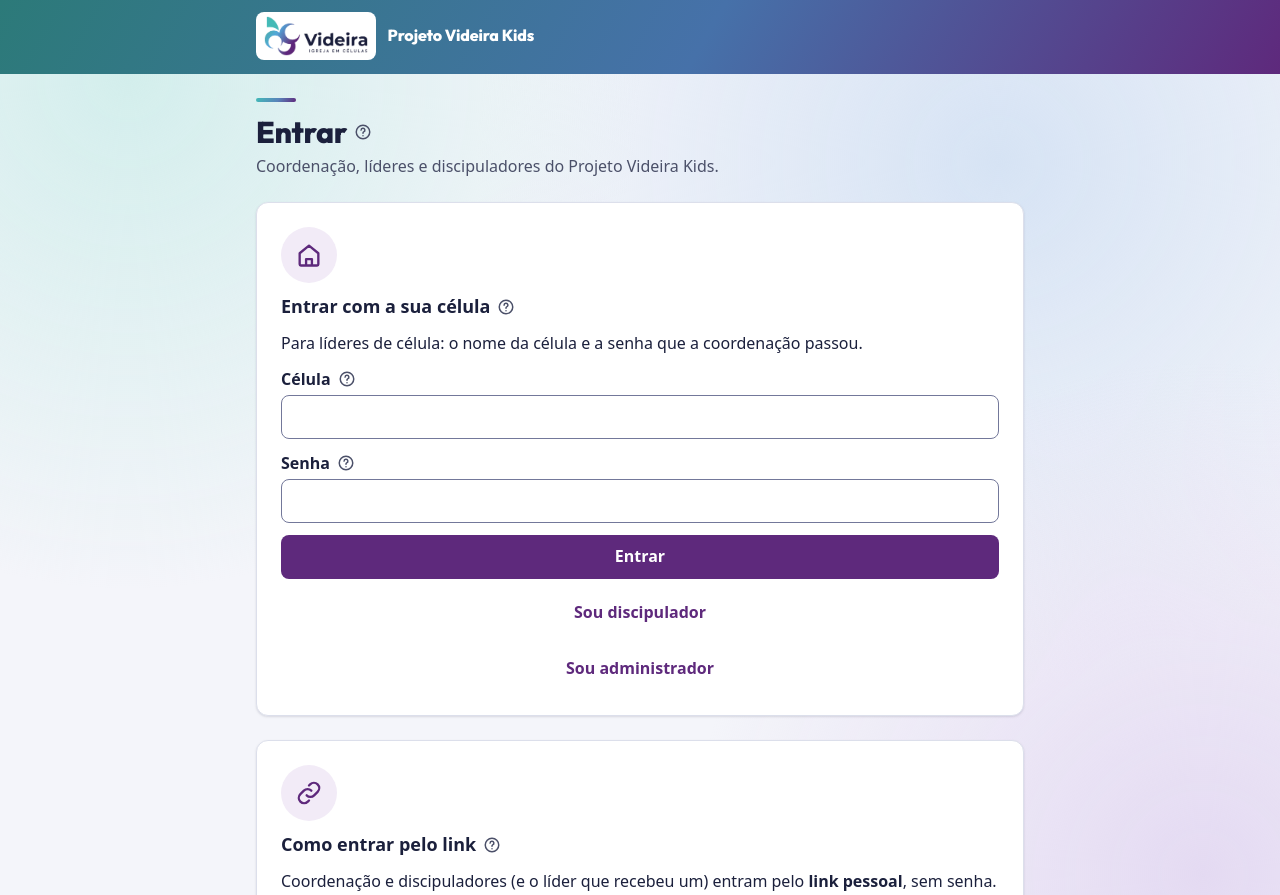
Test: RIFA-073: Sou administrador em /entrar › troca o formulário: usuário e senha do admin, com as dicas próprias; o botão volta para a célula
Click the button "Sou administrador" at (640, 669), box [281,647,999,691]
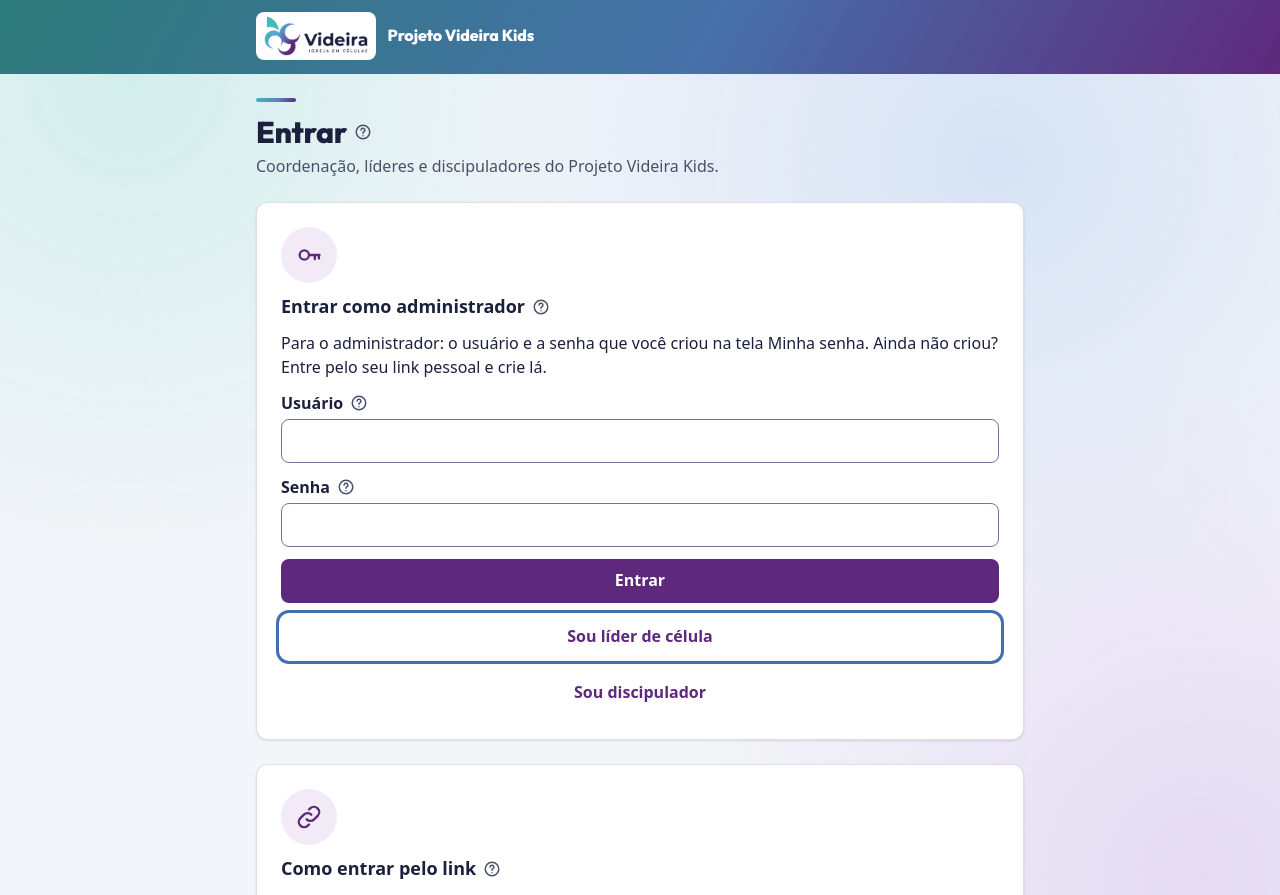
Now the heading "Entrar como administrador" is shown, box [281,296,525,318]
Click the button "Sou líder de célula" at (640, 637), box [281,615,999,659]
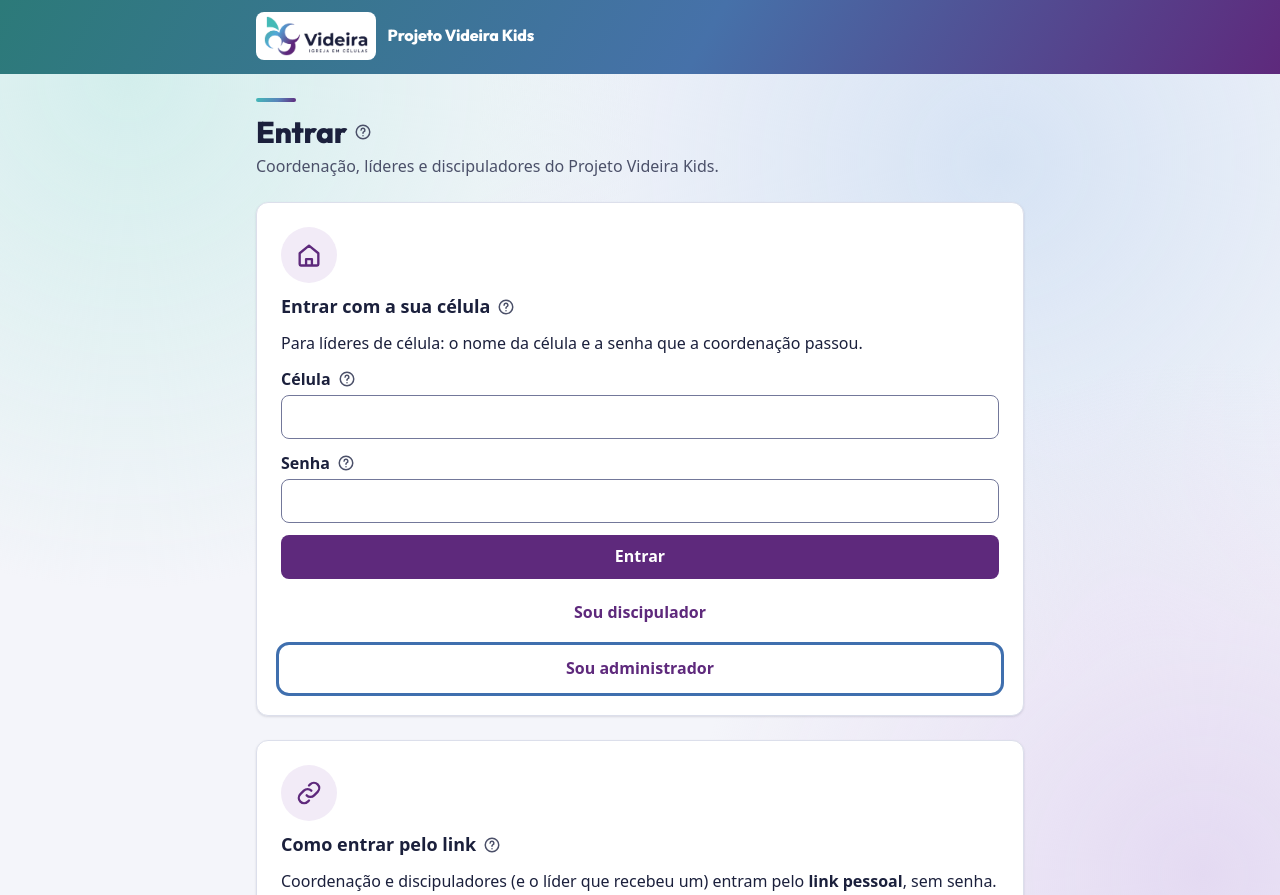
Now the field labelled "Célula" is shown, box [281,395,999,439]
